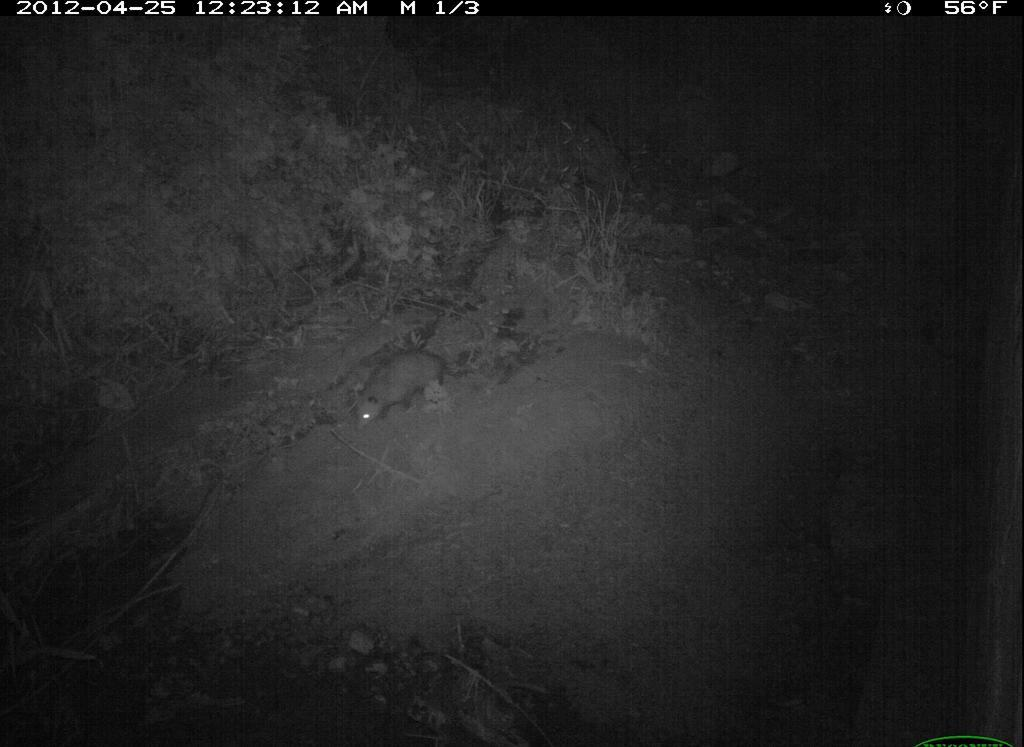opossum: (342, 336, 472, 441)
